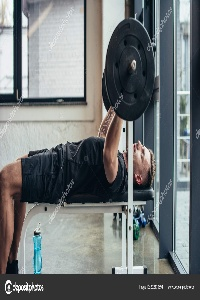barbell: (102, 17, 158, 123)
